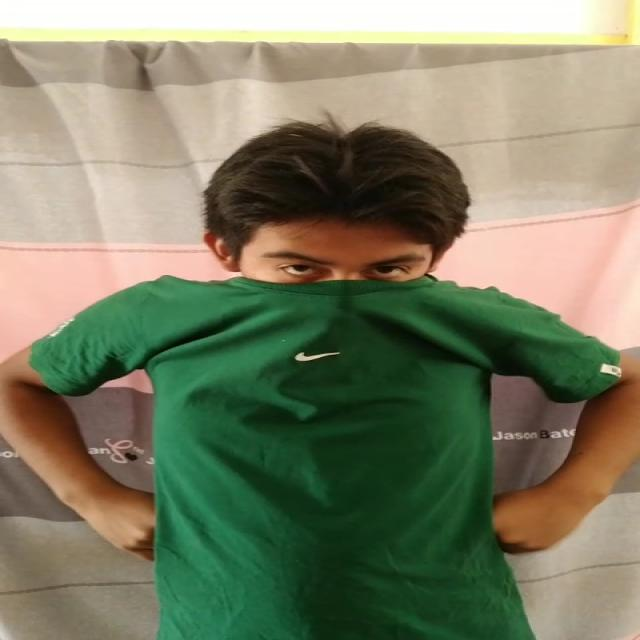8_ropa_rostro: (144, 266, 505, 367)
